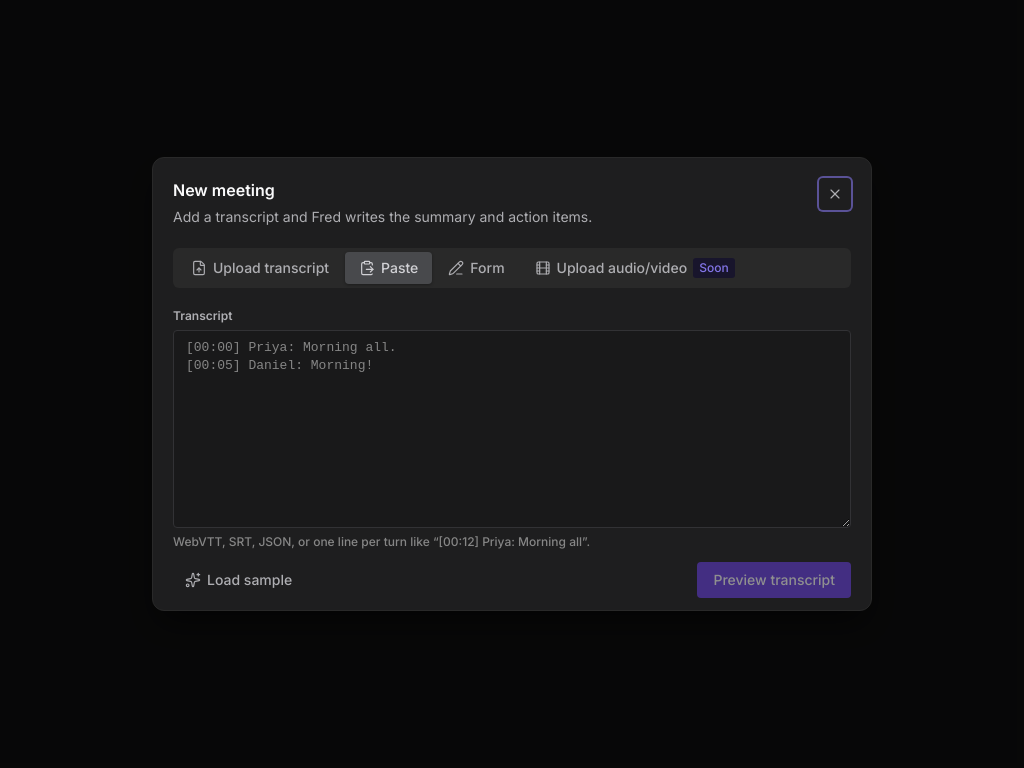
CreateMeetingModal › pastes the sample, previews, then creates and navigates once
Click the button "Load sample". click: x=239, y=580
box: [173,564,304,596]
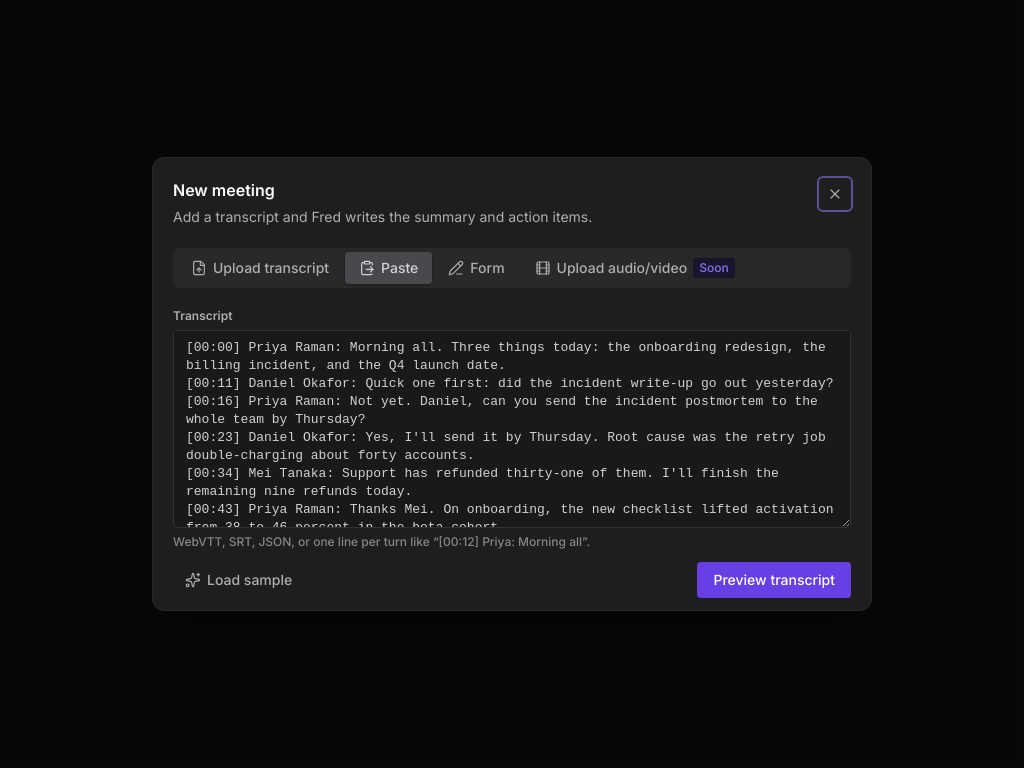
Now the text box labelled "Transcript" holds "[00:00] Priya Raman: Morning all. Three things today: the onboarding redesign, the billing incident, and the Q4 launch date. [00:11] Daniel Okafor: Quick one fi", box [173,330,851,528]
Click the button "Preview transcript". click: x=774, y=580
box: [697,562,851,598]
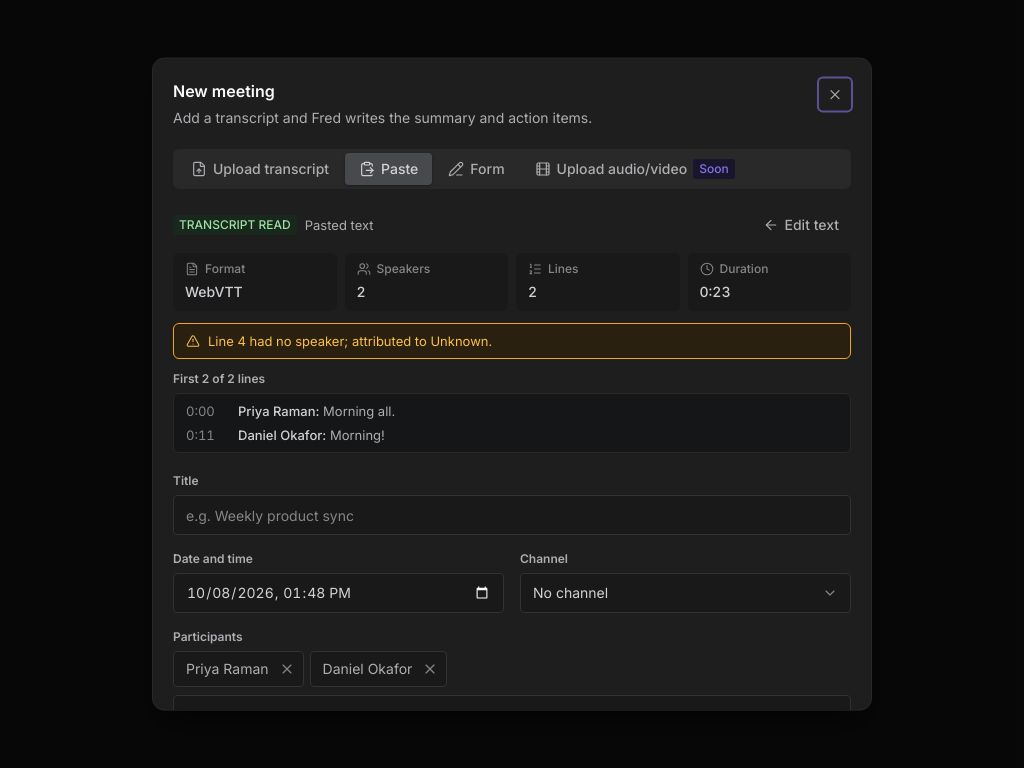
Now the element named "Transcript preview" is shown, box [173,209,851,453]
Now the list item "Line 4 had no speaker; attributed to Unknown." is shown, box [186,333,492,349]
Now the button named "Remove Priya Raman" is shown, box [274,657,298,681]
Type "Roadmap sync" into the field labelled "Title". click: x=512, y=515
box: [173,495,851,535]
(page scrolled)
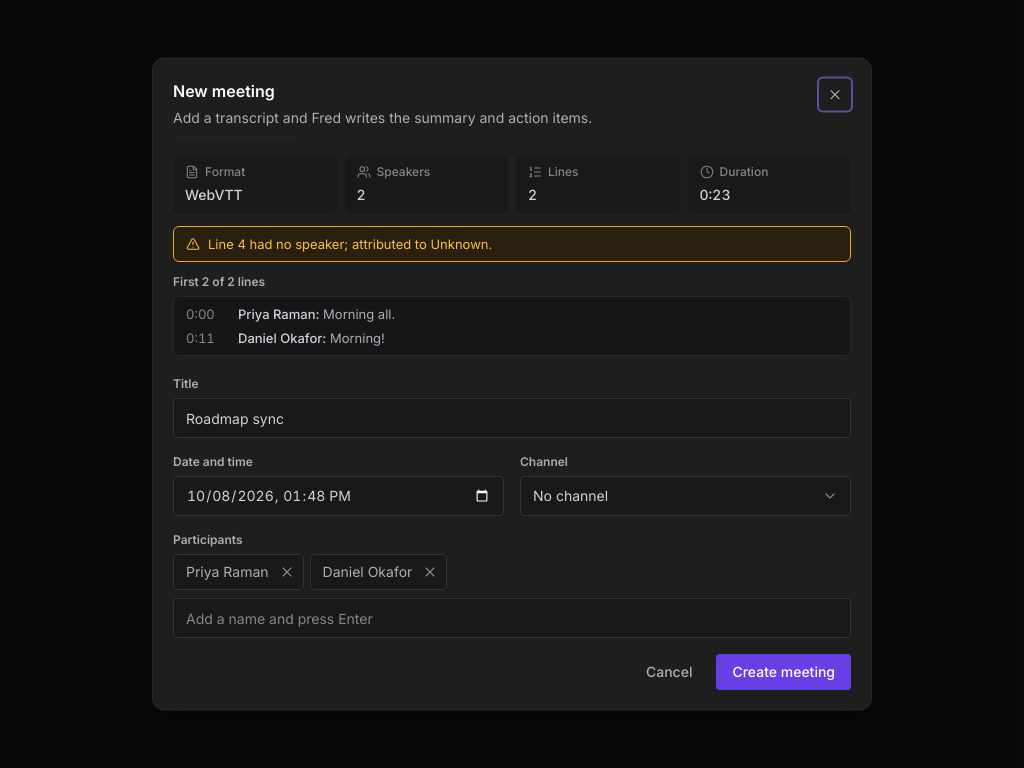
Click the button "Create meeting". click: x=784, y=672
box: [716,654,851,690]
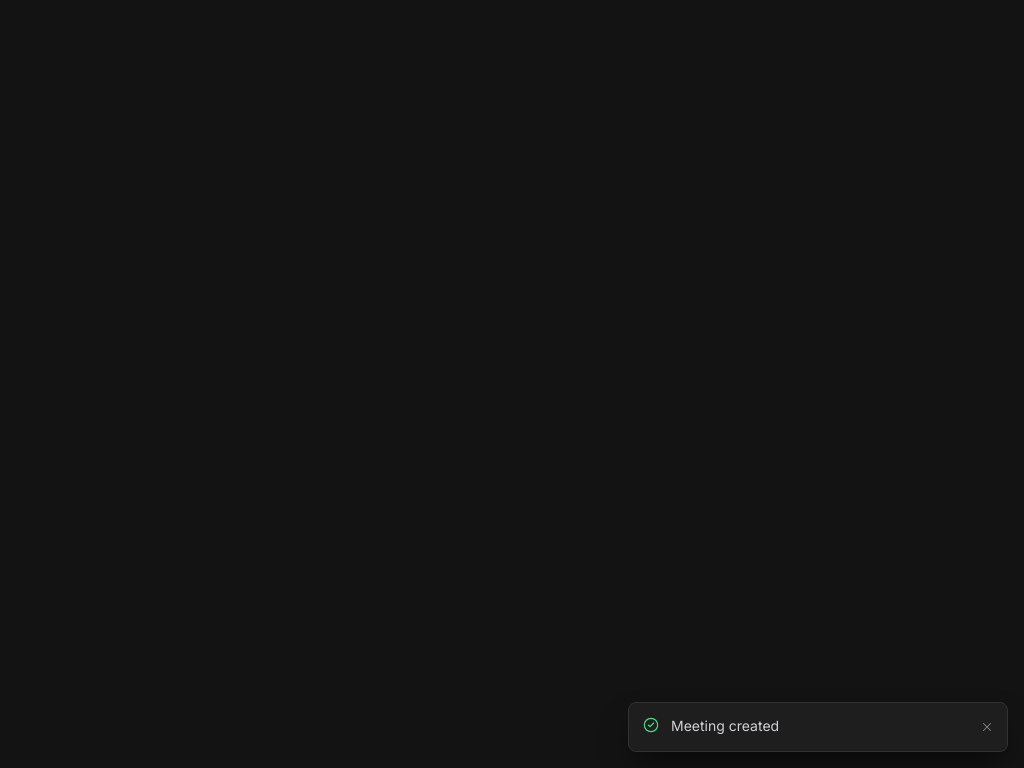
Now the dialog is gone
